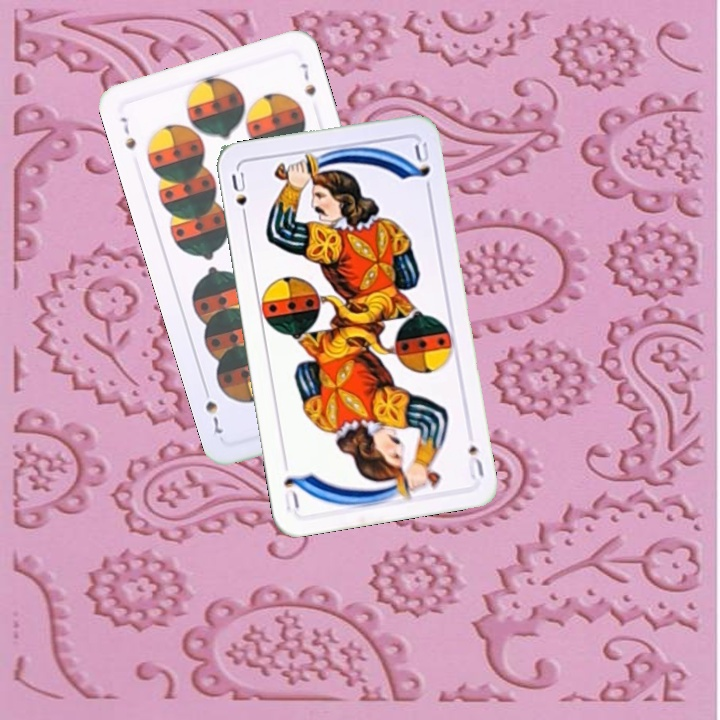S7: (116, 113, 139, 152)
SU: (227, 167, 250, 225), (464, 441, 487, 482)
